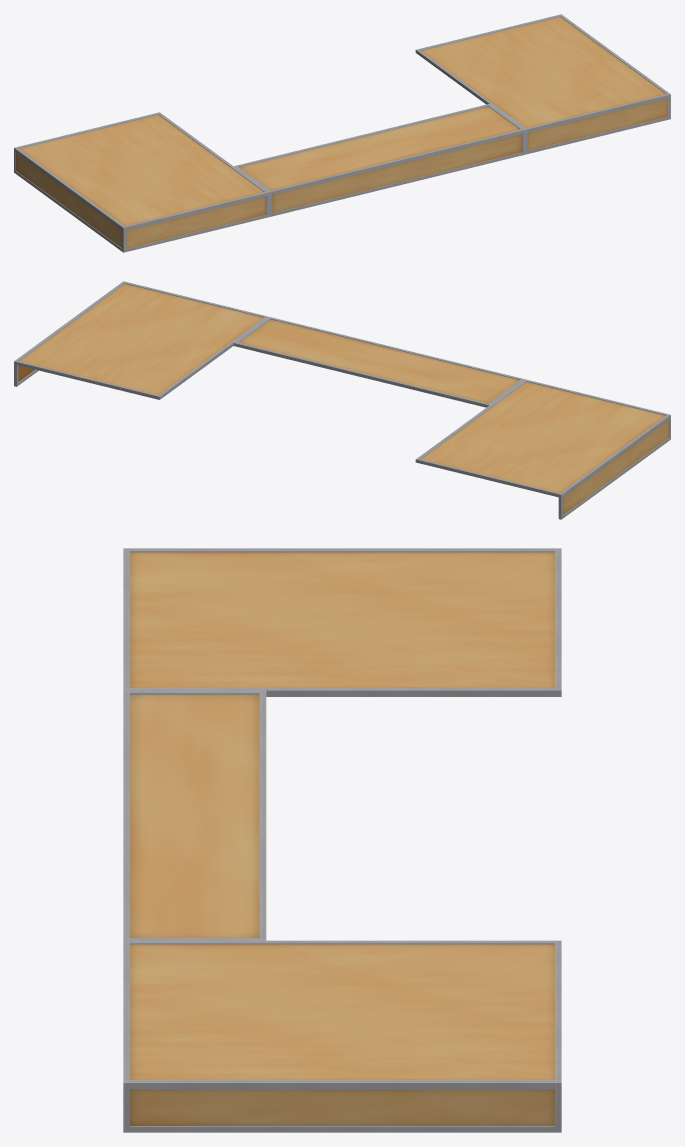
File: jsf_2P_s03_c05_t03_DX.fbx
The picture shows the model from 3 angles, top to bottom: view 1: azimuth 30°, elevation 25°; view 2: azimuth 150°, elevation 25°; view 3: azimuth 270°, elevation 25°; orthographic projection. The views are drawn at different scales.
Visible parts, largest first — view 1: jsf_2P_s03_c05_t03_DX; view 2: jsf_2P_s03_c05_t03_DX; view 3: jsf_2P_s03_c05_t03_DX.
Boxes of the visible parts, <box> form: jsf_2P_s03_c05_t03_DX: <box>14,14,670,252</box>; jsf_2P_s03_c05_t03_DX: <box>14,281,670,519</box>; jsf_2P_s03_c05_t03_DX: <box>123,548,561,1132</box>.
Bounding box in the file's own units: 289 × 12.51 × 100.
